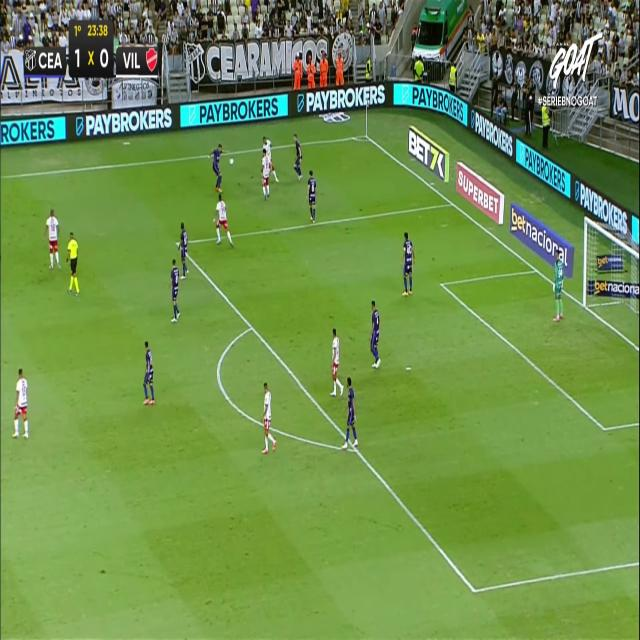ball: (229, 156, 235, 167)
goalkeeper: (552, 252, 564, 321)
player: (12, 367, 28, 438), (341, 377, 357, 448), (214, 193, 234, 246), (261, 380, 275, 453), (329, 328, 343, 397), (45, 208, 60, 269), (210, 142, 228, 192), (262, 136, 279, 188), (402, 230, 414, 295), (142, 340, 154, 404), (370, 299, 381, 367), (306, 169, 318, 224), (170, 257, 180, 321), (180, 221, 190, 281), (260, 144, 271, 197), (293, 133, 303, 179)
referee: (65, 230, 80, 295)
